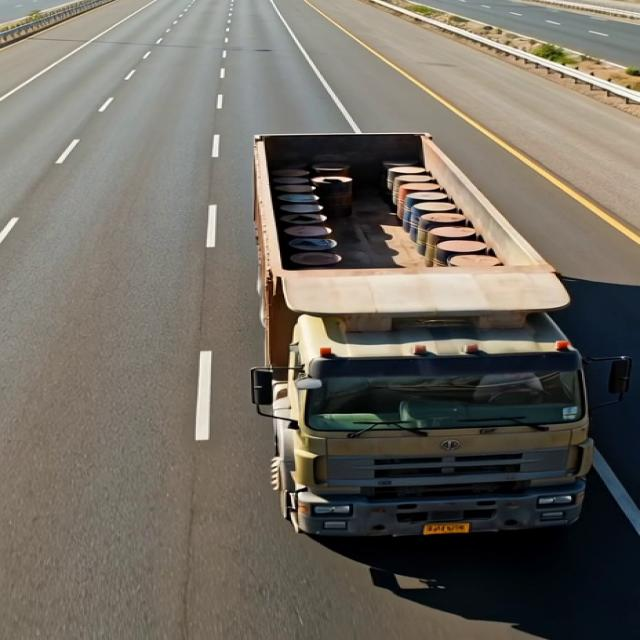Box: (213, 130, 569, 308)
Truck: (194, 110, 612, 562)
